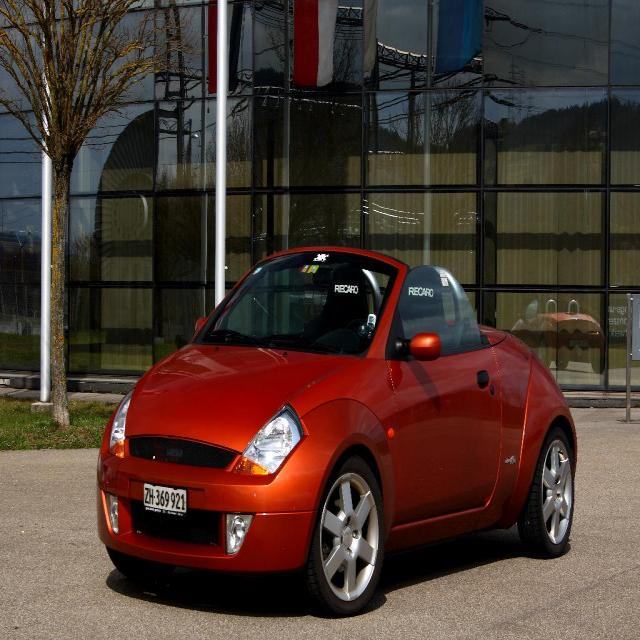car: (96, 237, 580, 612)
